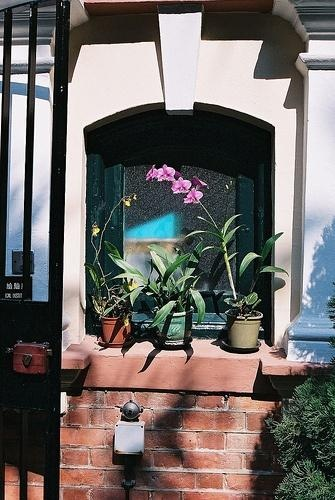pottedplant: (147, 164, 288, 354), (105, 240, 207, 351), (94, 195, 140, 352)
